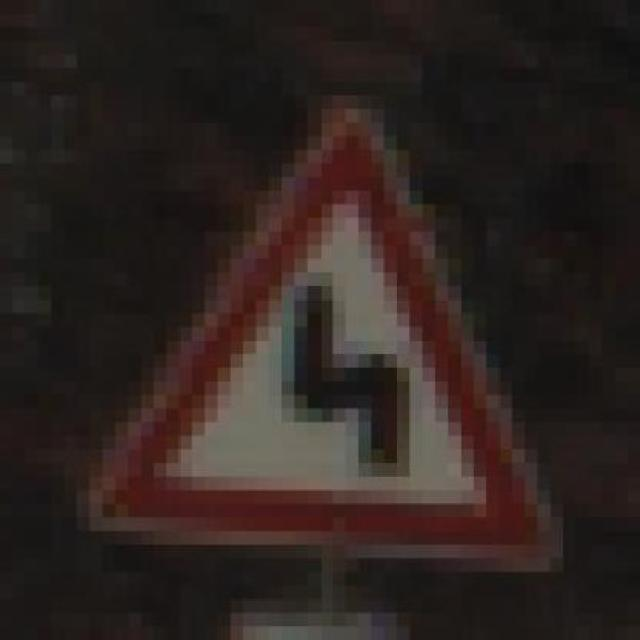Left Zig Zag Traffic: (64, 95, 588, 572)
